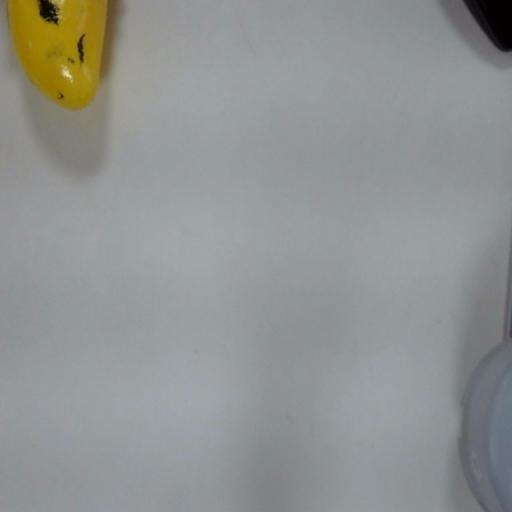Defective: (2, 0, 131, 113)
